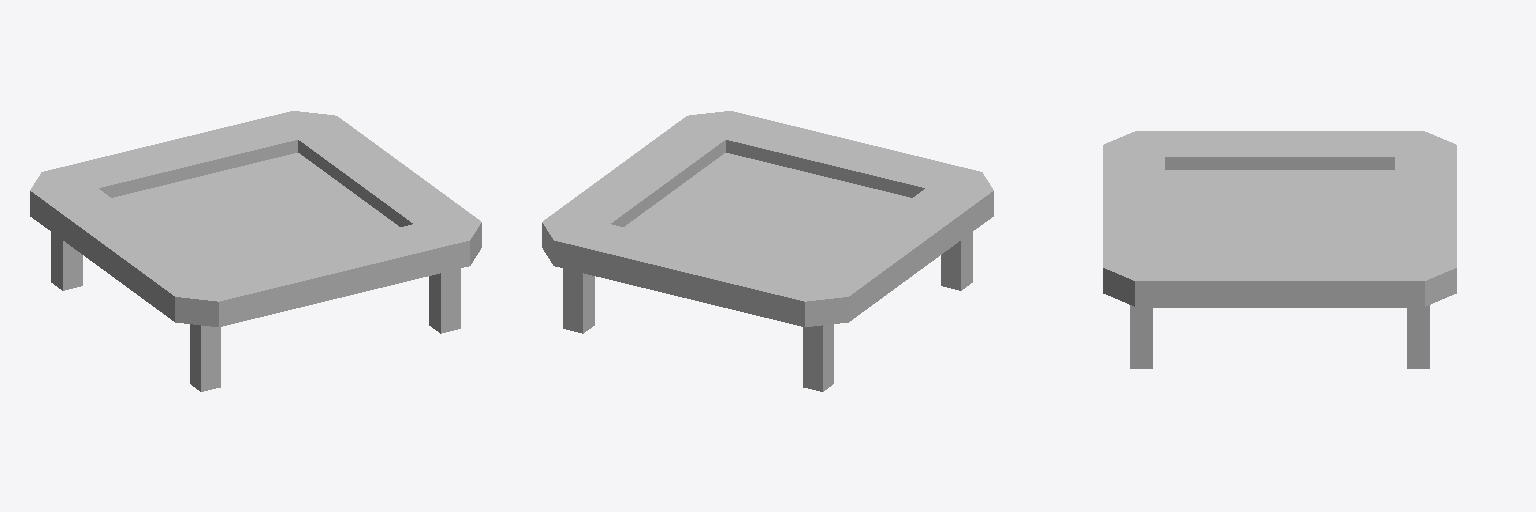
The model's file is frameLowTile.obj.
3 views of the same model, side by side, from view 1: azimuth 30°, elevation 25°; view 2: azimuth 150°, elevation 25°; view 3: azimuth 270°, elevation 25° (orthographic).
Parts seen in each view (by area): view 1: frameLowTile; view 2: frameLowTile; view 3: frameLowTile.
Part boxes in pixels (bbox=[...]): frameLowTile: bbox=[30, 111, 481, 391]; frameLowTile: bbox=[542, 111, 993, 391]; frameLowTile: bbox=[1103, 131, 1456, 368].
Bounding box in the file's own units: 10 × 3.1 × 10.